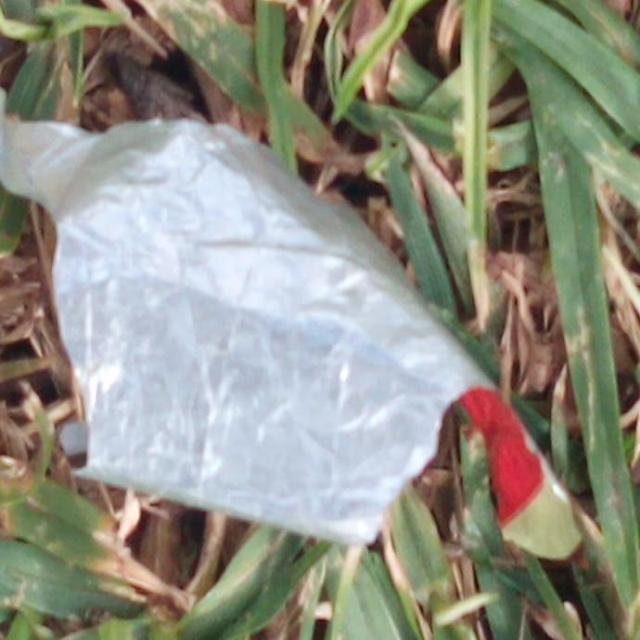litter: (7, 101, 582, 575)
